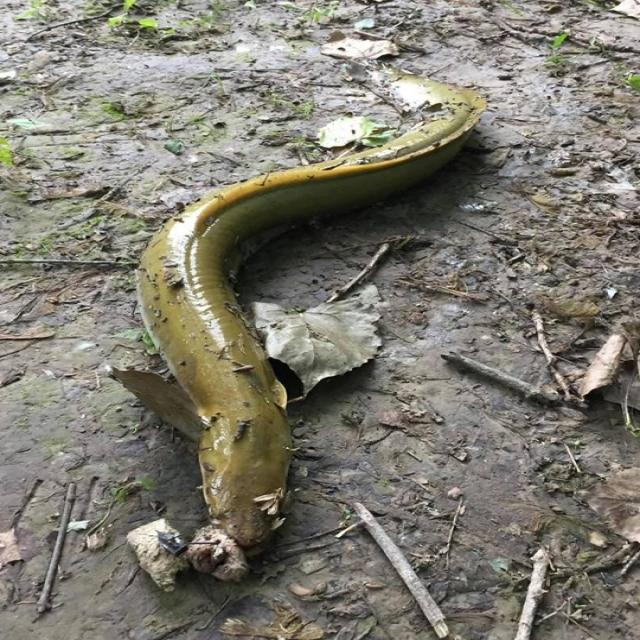Freshwater-Eel: (104, 66, 526, 583)
